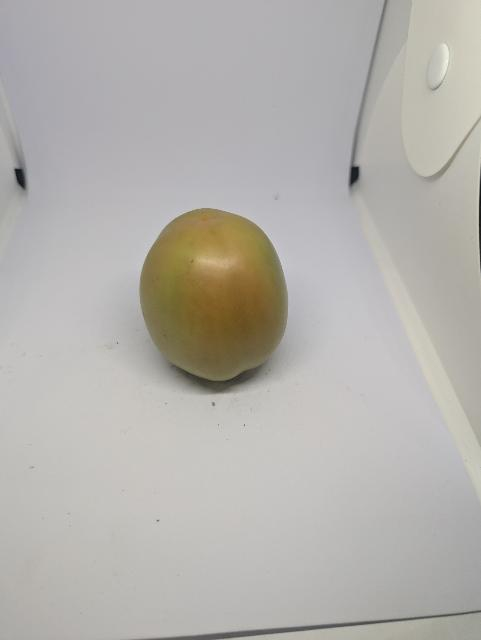breaker: (140, 208, 289, 381)
